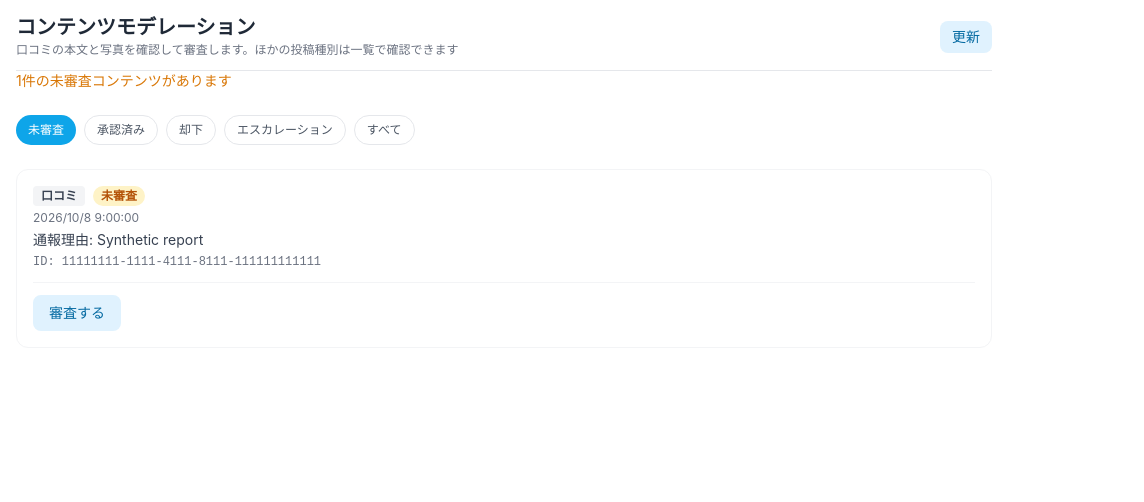
Test: snapshot network failure cannot approve an unseen review
The width and height of the screenshot is (1144, 502).
Click the button "審査する" at (77, 313), box x1=33 y1=295 x2=121 y2=331
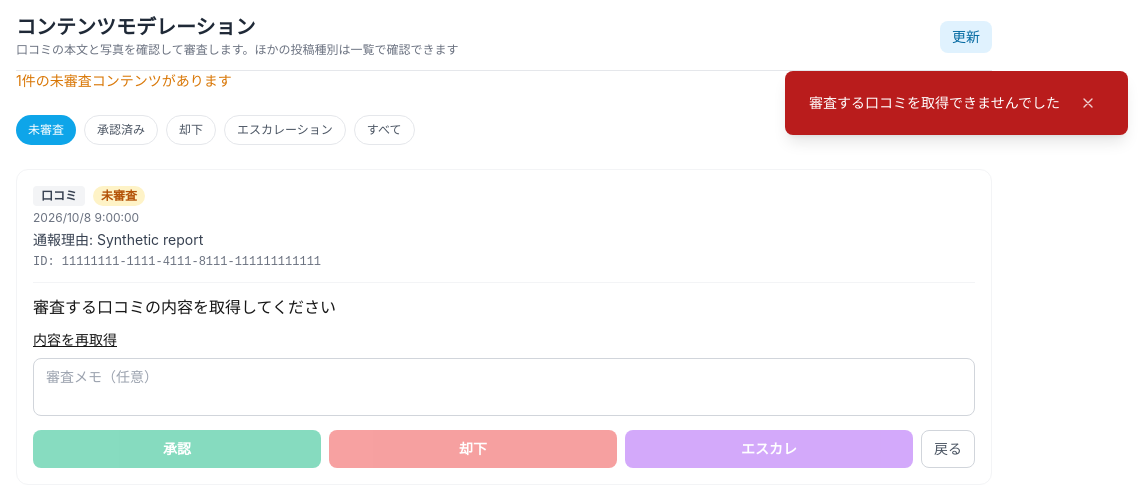
Expected: the button "内容を再取得" is enabled, x1=33 y1=330 x2=117 y2=350
Expected: the text "審査する口コミを取得できませんでした" is shown, x1=809 y1=93 x2=1060 y2=113
Expected: the button "承認" is disabled, x1=33 y1=430 x2=321 y2=468
